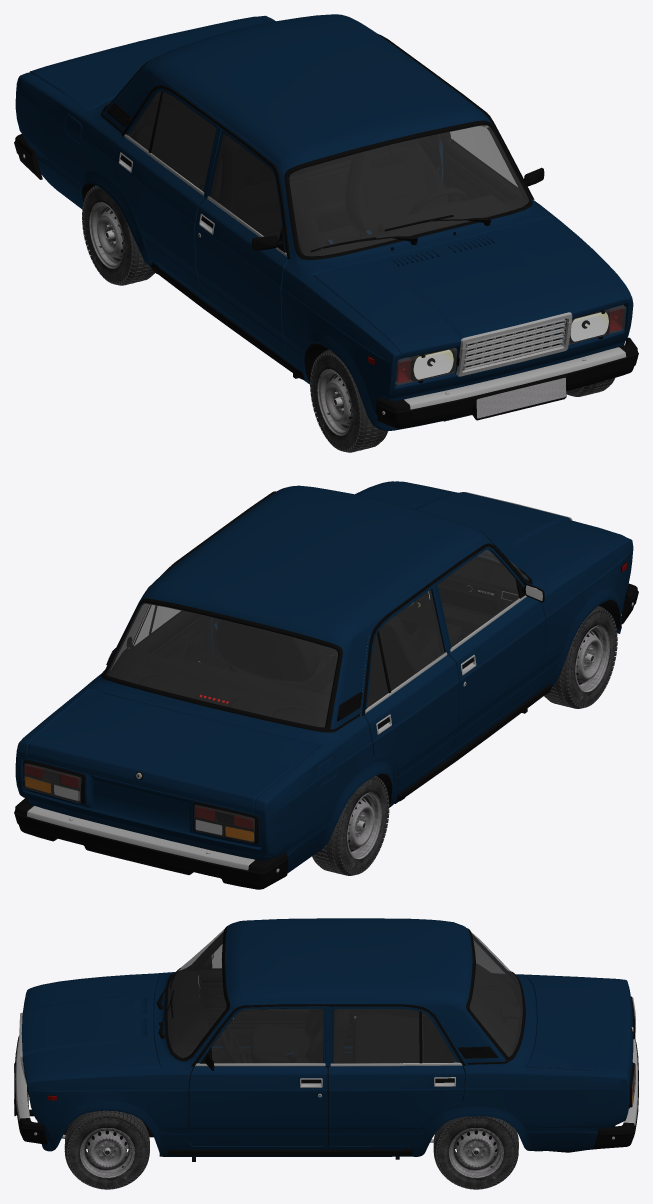
Rendered from lada_2107.glb.
3 renders of one model, top to bottom at view 1: azimuth 30°, elevation 25°; view 2: azimuth 150°, elevation 25°; view 3: azimuth 270°, elevation 25°, orthographic. The views are drawn at different scales.
Parts seen in each view (by area): view 1: Body, W_FL, W_RL, L_HEAD_N, L_HEAD_P; view 2: Body, W_RL, W_FL, L_TAIL_N; view 3: Body, W_FR, W_RR.
Boxes of the visible parts, left/top/right/bottom form: Body: left=14, top=14, right=638, bottom=431; W_FL: left=310, top=349, right=387, bottom=452; W_RL: left=82, top=185, right=154, bottom=285; L_HEAD_N: left=413, top=350, right=453, bottom=379; L_HEAD_P: left=570, top=312, right=608, bottom=341; Body: left=14, top=481, right=638, bottom=889; W_RL: left=312, top=775, right=389, bottom=875; W_FL: left=544, top=606, right=617, bottom=708; L_TAIL_N: left=195, top=820, right=253, bottom=841; Body: left=14, top=918, right=638, bottom=1161; W_FR: left=64, top=1110, right=149, bottom=1189; W_RR: left=433, top=1116, right=518, bottom=1189.
Bounding box in the file's own units: 1.81 × 1.4 × 4.14.
16 materials, 2 textured.
